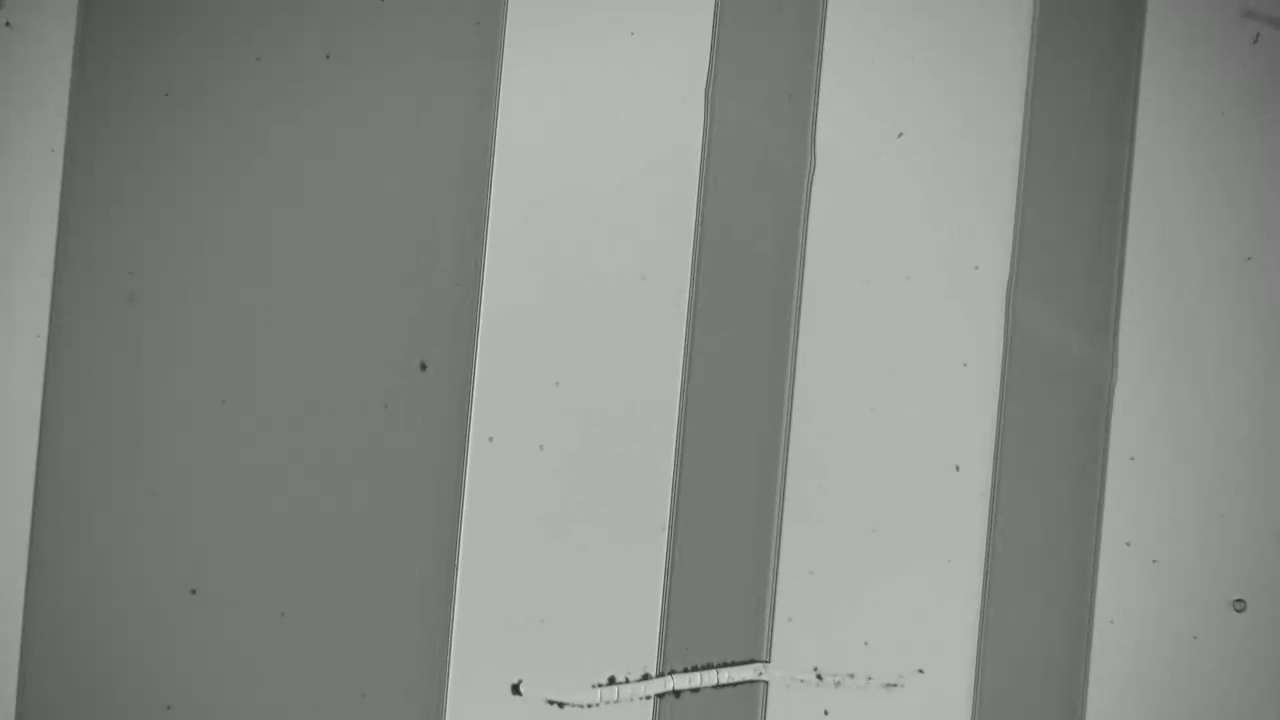Short_circuit: (629, 634, 790, 716)
